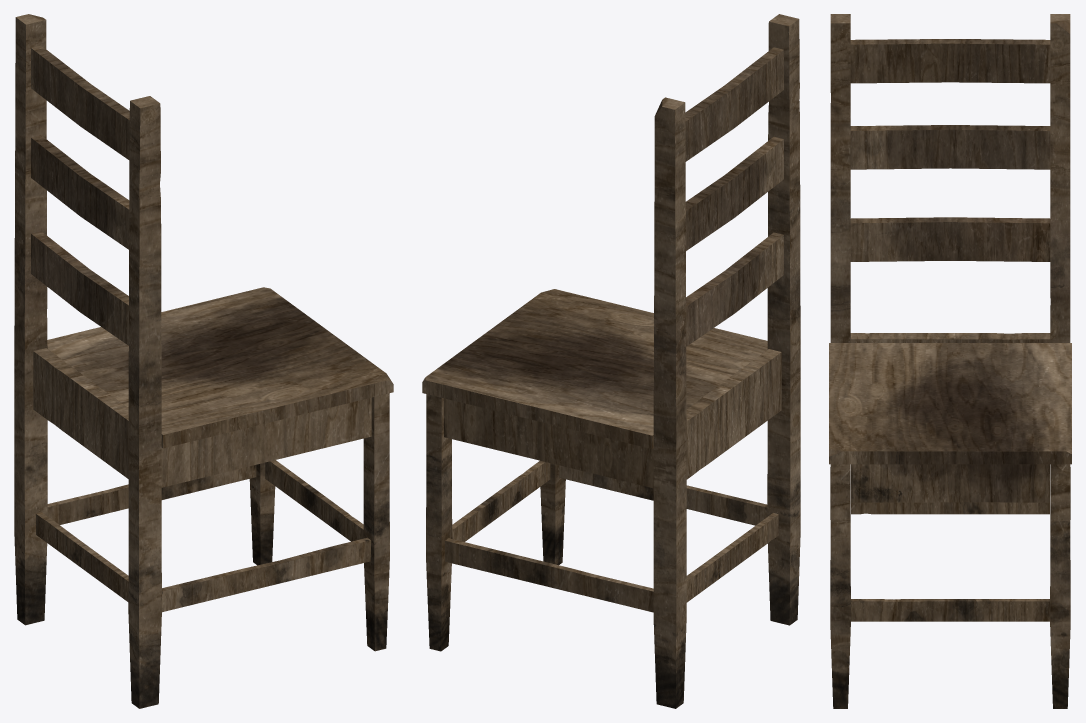
File: ChairSeP.fbx
The picture shows the model from 3 angles, left to right: view 1: azimuth 30°, elevation 25°; view 2: azimuth 150°, elevation 25°; view 3: azimuth 270°, elevation 25°; orthographic projection. The views are drawn at different scales.
Parts seen in each view (by area): view 1: ChairLP; view 2: ChairLP; view 3: ChairLP.
Boxes of the visible parts, x1,y1,x2,y2 form: ChairLP: (14,14,393,708); ChairLP: (422,14,800,708); ChairLP: (829,14,1071,708).
Bounding box in the file's own units: 124 × 280 × 107.
